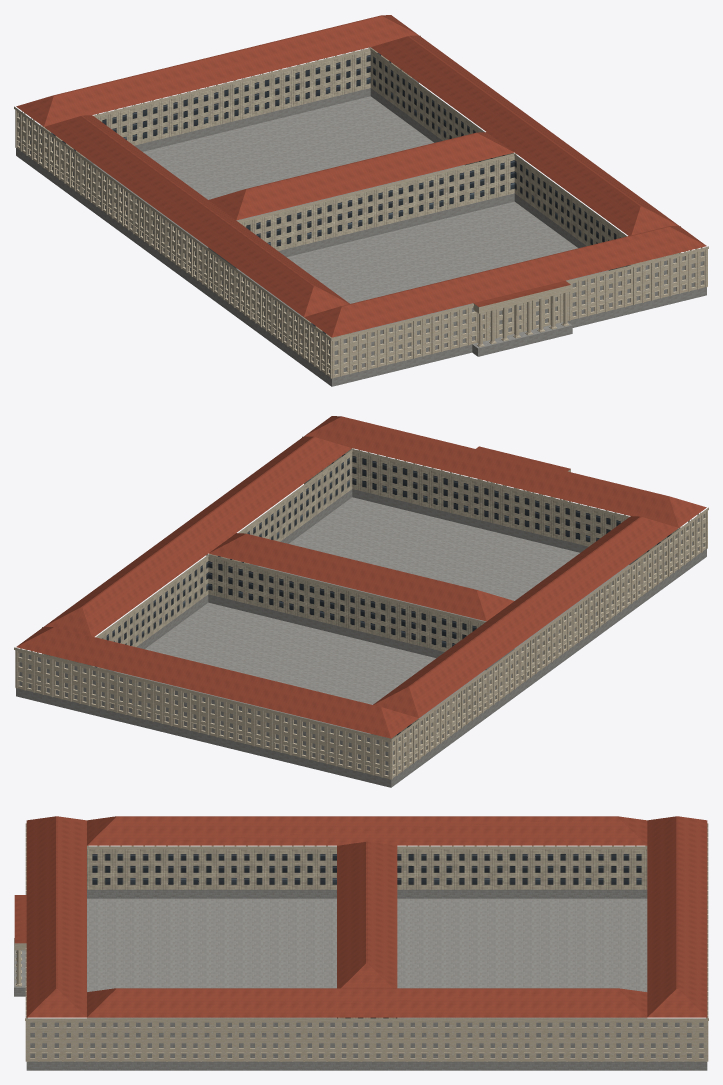
The model's file is irs_building.glb.
3 renders of one model, top to bottom at view 1: azimuth 30°, elevation 25°; view 2: azimuth 150°, elevation 25°; view 3: azimuth 270°, elevation 25°, orthographic. The views are drawn at different scales.
Parts seen in each view (by area): view 1: irs_building; view 2: irs_building; view 3: irs_building.
Part boxes in pixels (x1,y1,x2,y2): irs_building: [14, 15, 708, 386]; irs_building: [14, 416, 708, 787]; irs_building: [14, 816, 708, 1070].
Size of the model in its own units: 156 by 25.4 by 231.
4 materials, 4 textured.
